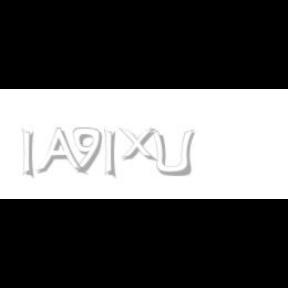9: (74, 128, 102, 172)
A: (36, 128, 84, 176)
U: (150, 128, 194, 178)
l: (22, 128, 38, 180), (104, 128, 120, 180)
x: (119, 128, 161, 162)
